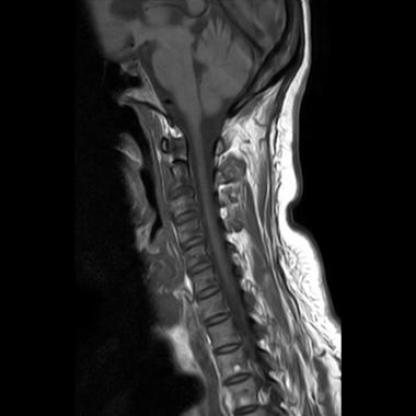Disc Bulgerotation: (186, 258, 214, 278)
